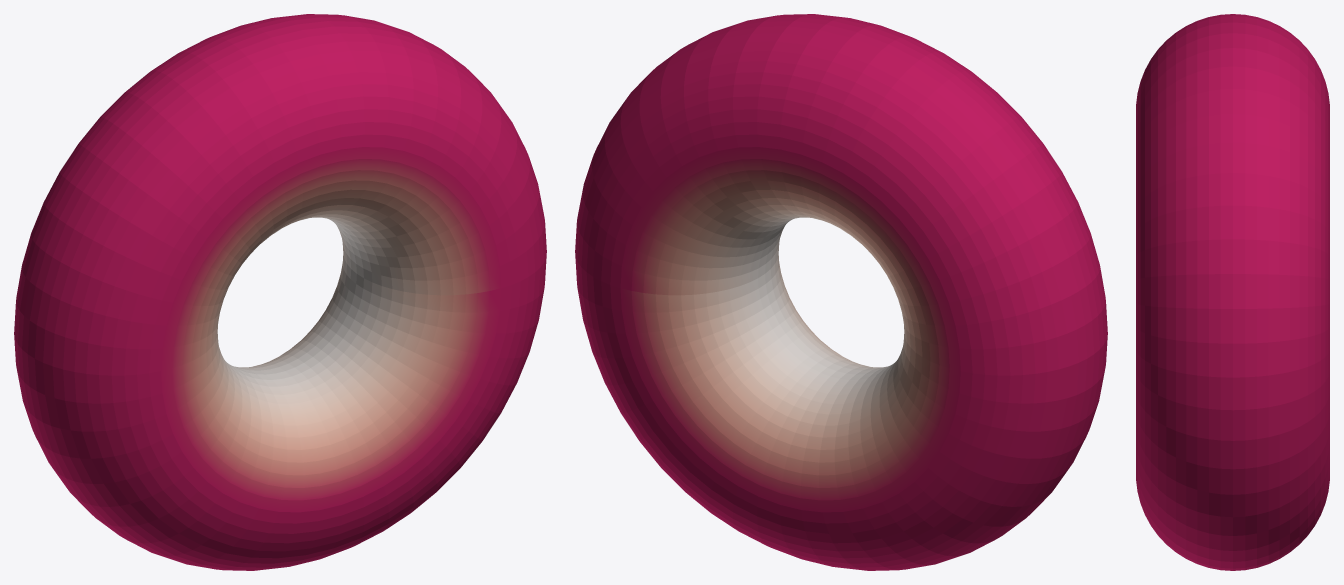
The picture shows the model from 3 angles, left to right: view 1: azimuth 30°, elevation 25°; view 2: azimuth 150°, elevation 25°; view 3: azimuth 270°, elevation 25°; orthographic projection. The views are drawn at different scales.
Parts seen in each view (by area): view 1: world; view 2: world; view 3: world.
Part boxes in pixels (x1=…): world: x1=14, y1=14, x2=546, y2=570; world: x1=575, y1=14, x2=1107, y2=570; world: x1=1136, y1=14, x2=1329, y2=570.
Size of the model in its own units: 28.67 by 28.61 by 9.98.
